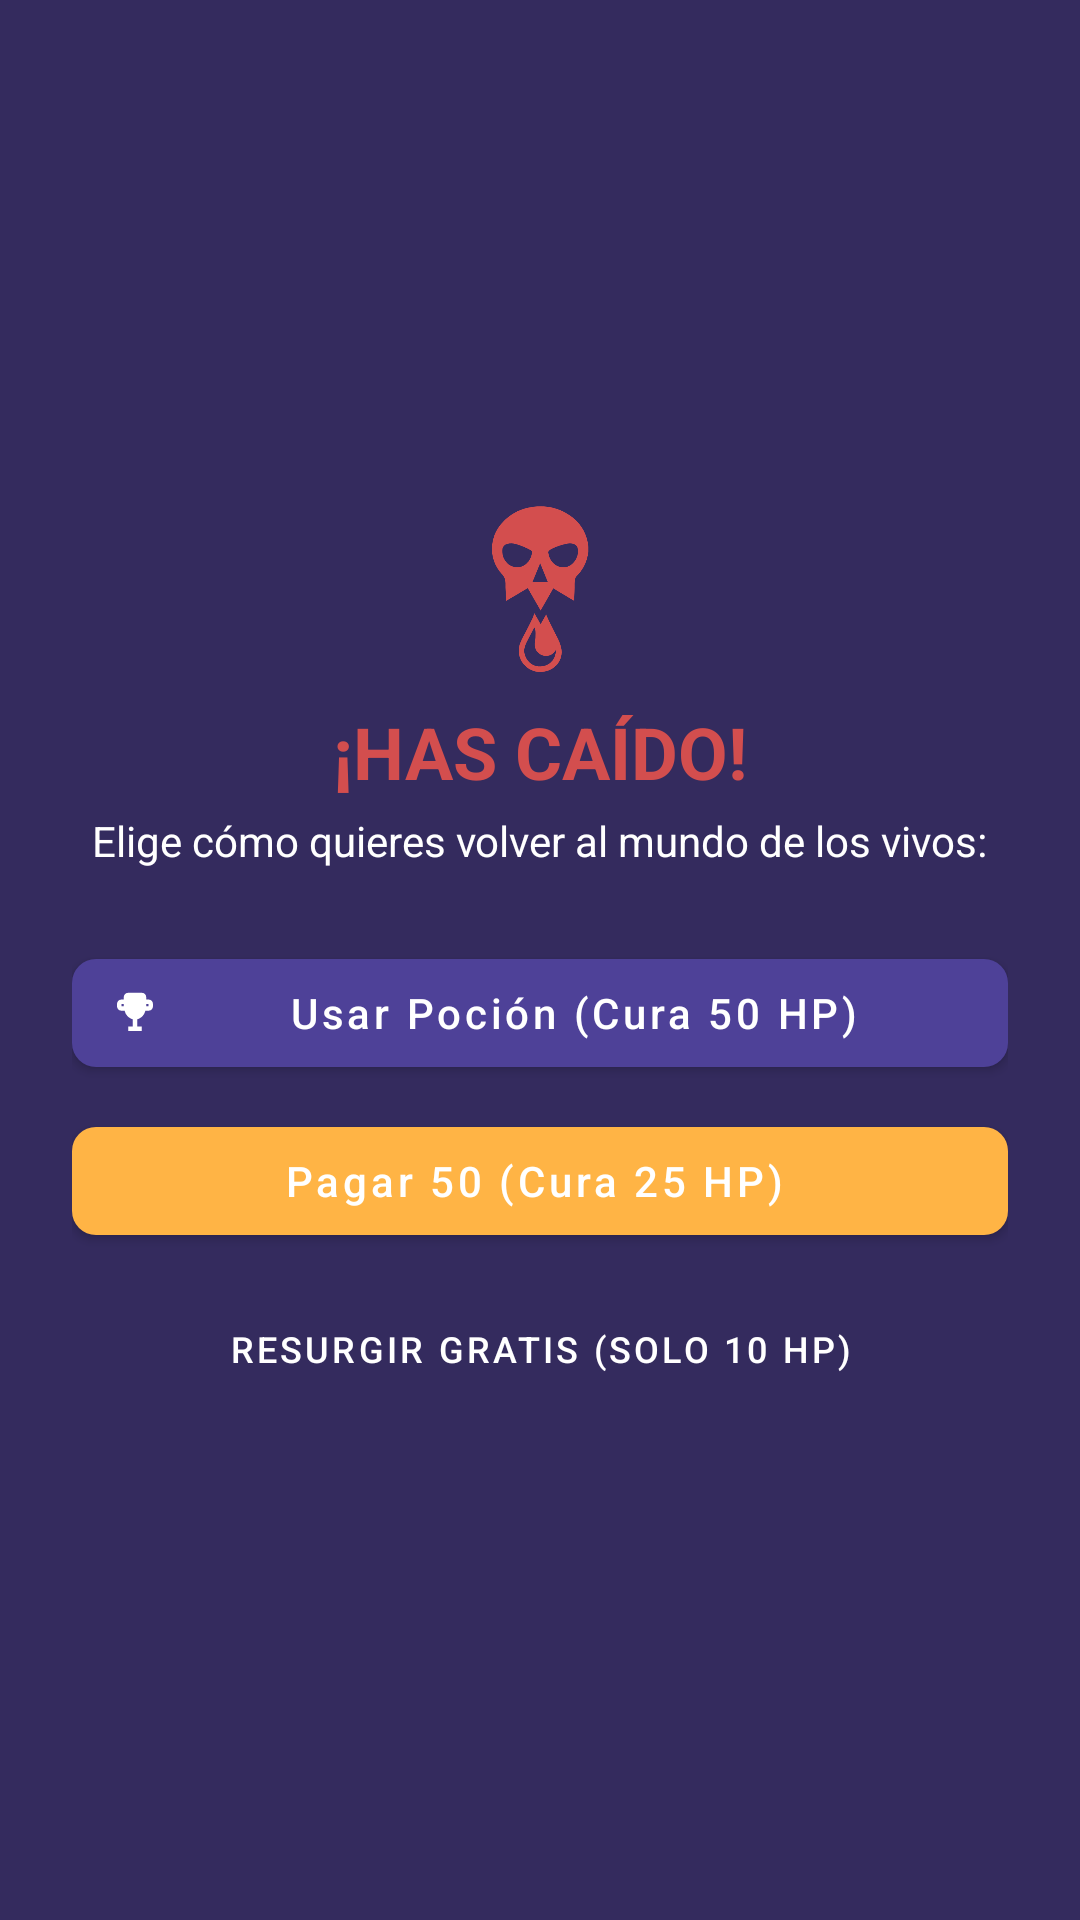

Icon bounding boxes for this 1080*1920 phone screenshot, format [left=x1, top=y1, right=x2, bottom=y2]:
death: [left=492, top=506, right=589, bottom=672]
